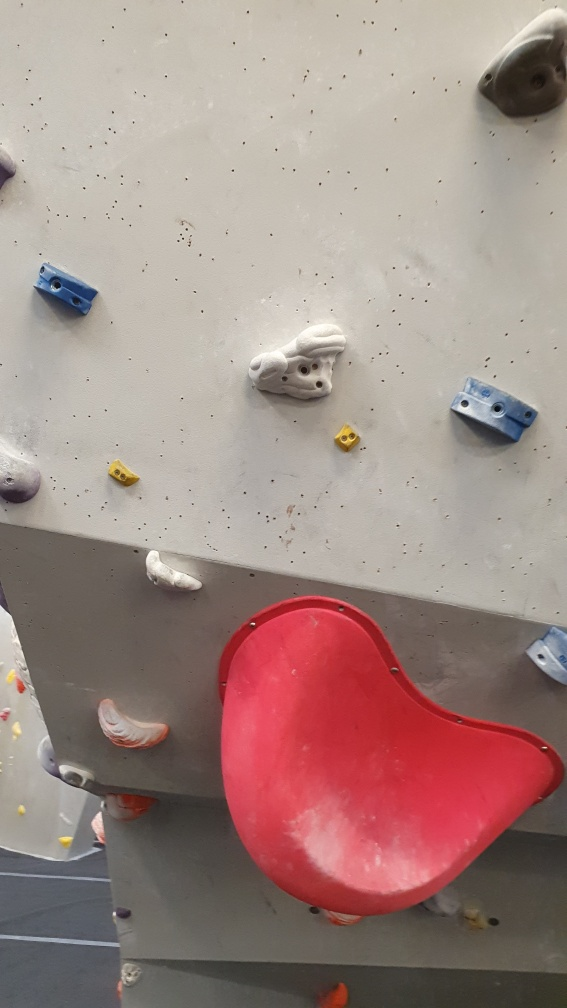Crimp: (105, 454, 144, 490)
Jug: (473, 6, 567, 122), (246, 317, 349, 404), (94, 693, 171, 752), (139, 547, 204, 596)
Pinch: (448, 371, 546, 446), (29, 257, 102, 317), (525, 619, 567, 686), (329, 425, 365, 457)
